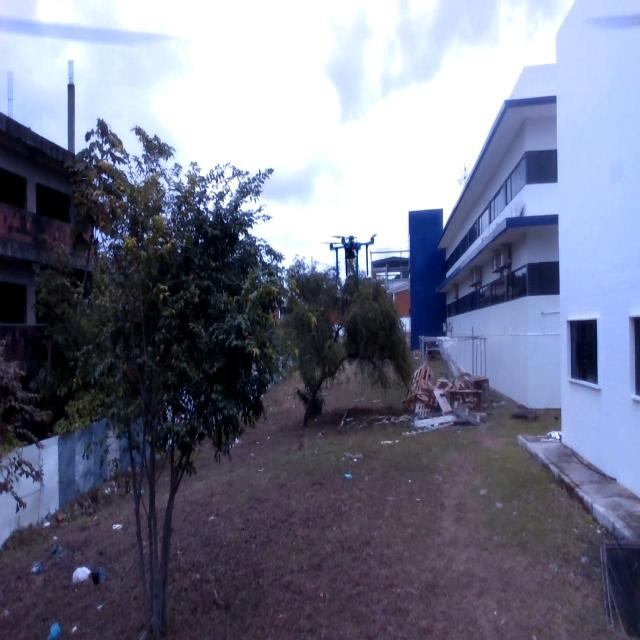-uav-: (320, 209, 384, 307)
